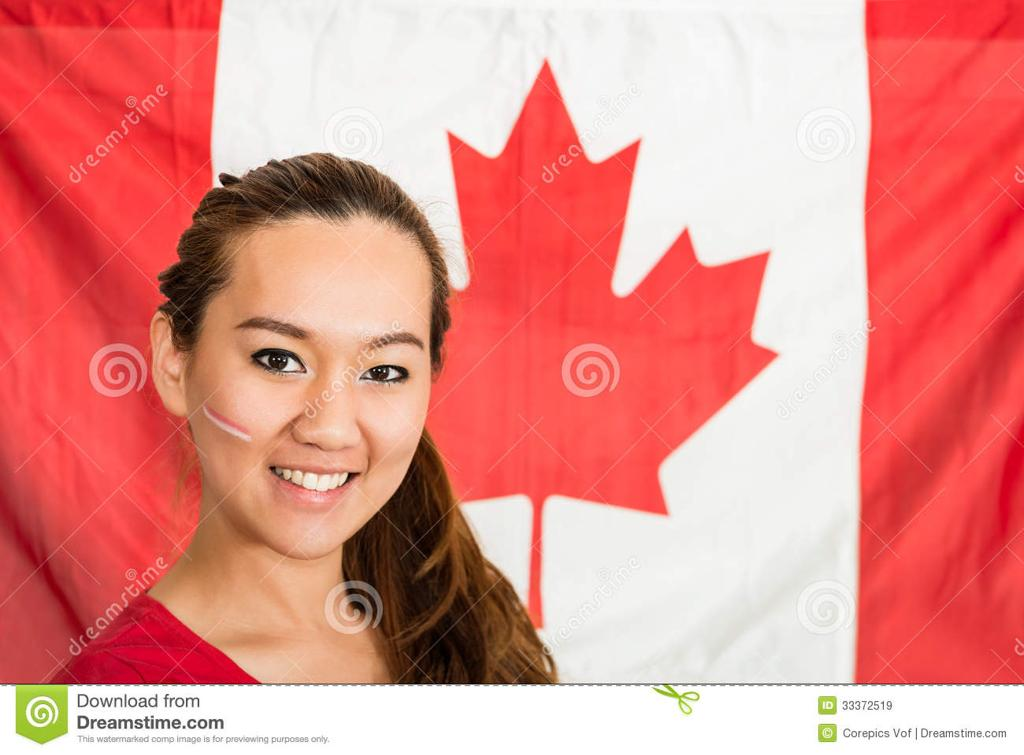face: (188, 220, 432, 556)
